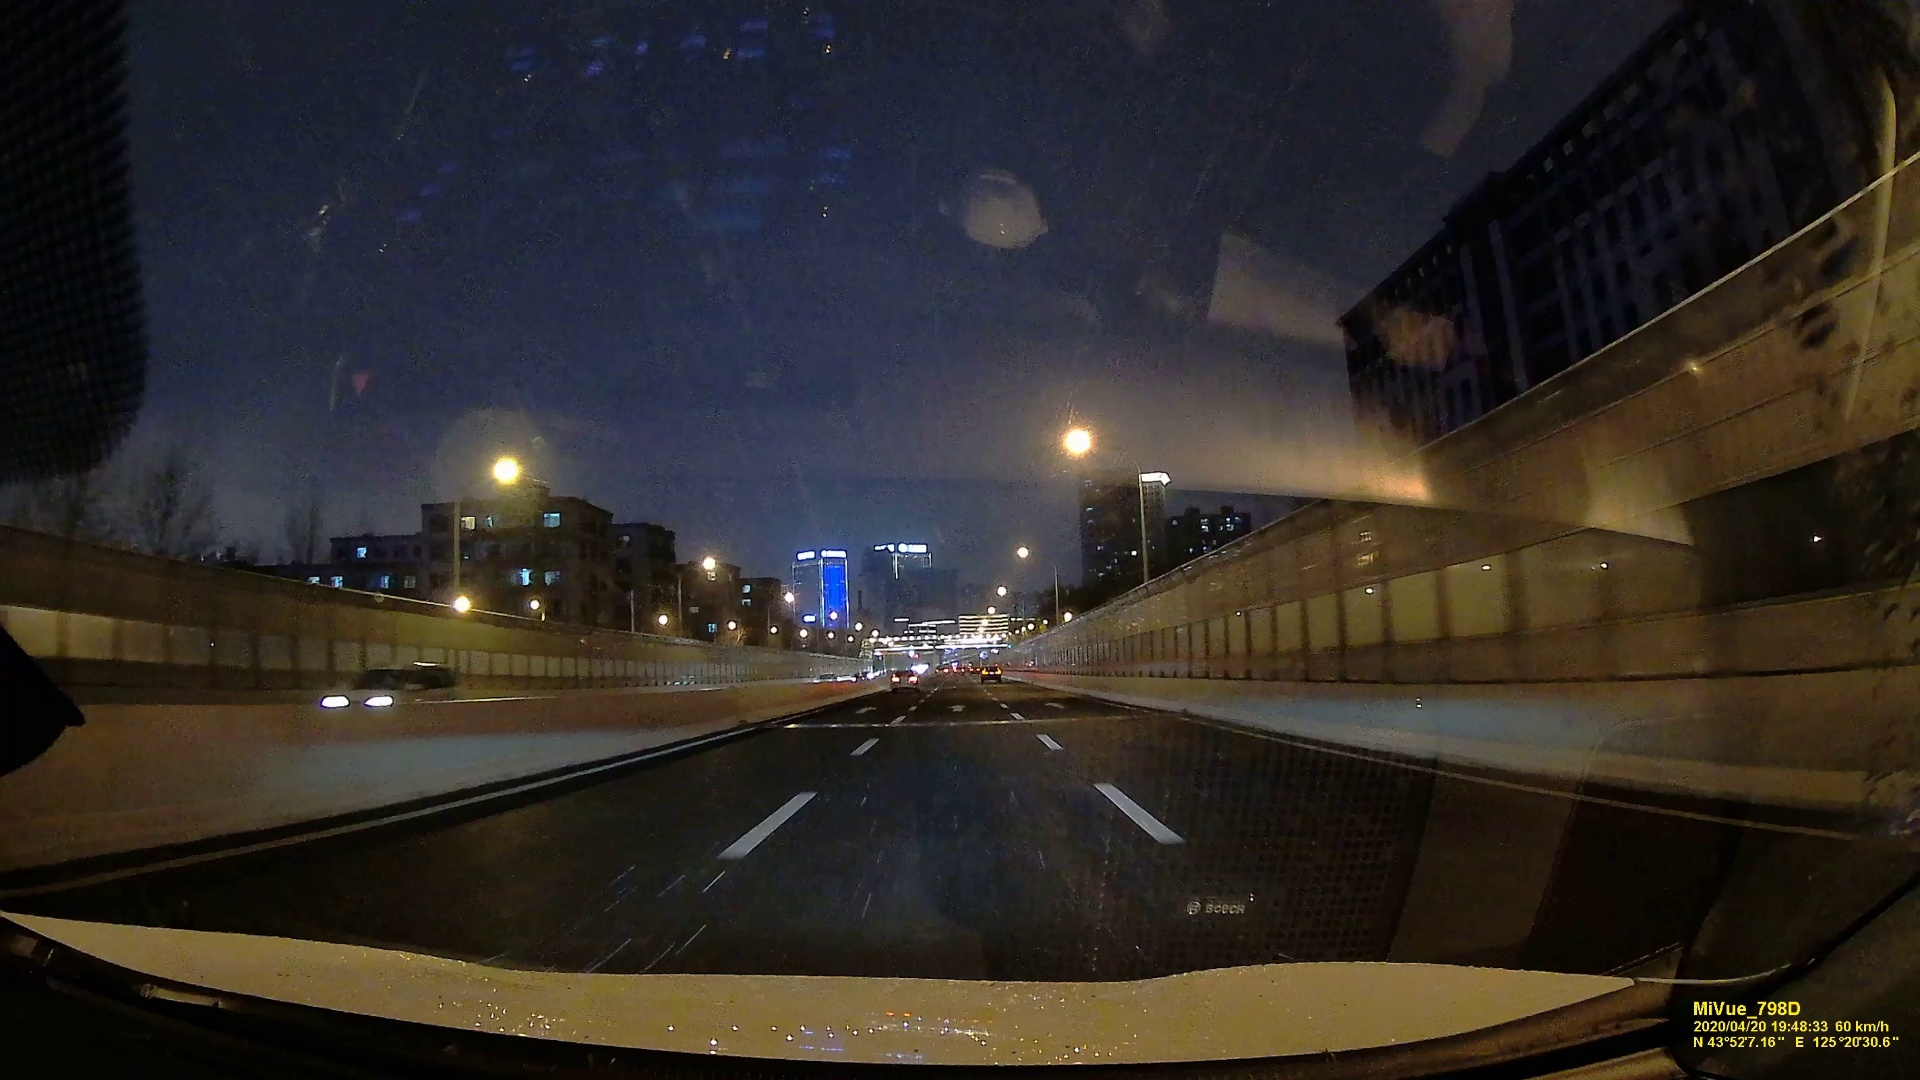vehicle: (319, 659, 458, 713), (890, 669, 919, 691), (981, 665, 1002, 683)
